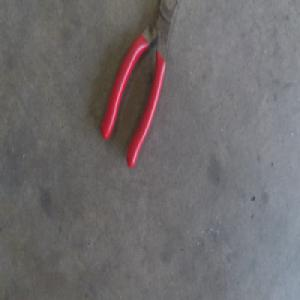Pliers: (101, 0, 179, 170)
